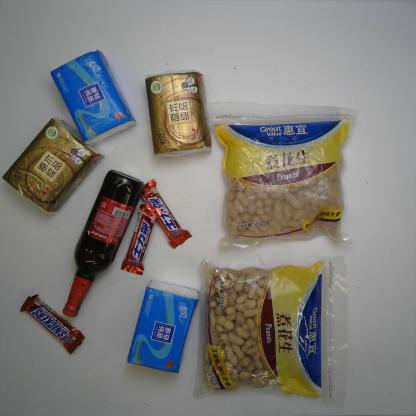Alcohol: (60, 167, 148, 321)
Chocolate: (18, 291, 87, 356), (138, 175, 194, 252), (118, 202, 164, 277)
Dried Food: (190, 249, 356, 412), (205, 97, 363, 257)
Tissue: (0, 113, 108, 219), (48, 46, 138, 148), (124, 277, 202, 375), (141, 65, 216, 161)
